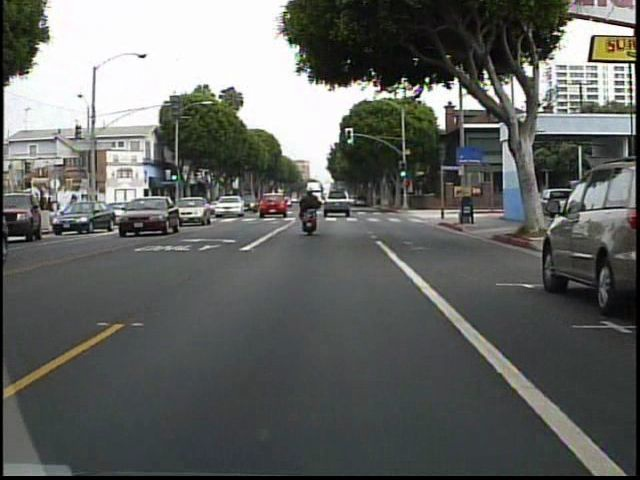person: (295, 184, 325, 241)
